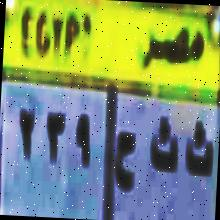2: (16, 102, 38, 165)
3: (42, 105, 67, 169)
7aa: (113, 125, 137, 196)
9: (71, 110, 94, 178)
thaa: (184, 118, 216, 190), (147, 120, 180, 182)
